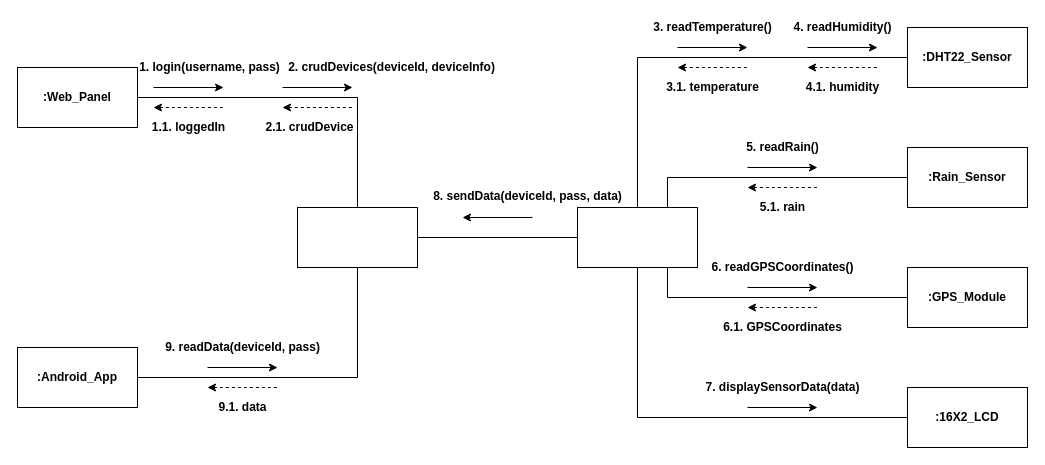
This 1045x465 diagram has some shape labels left out. Here are the shapes that lost their labels. From the top down, the centre of each, then its label:
the point at 357,237: :Web_Server
the point at 637,237: :ESP8266_Board
